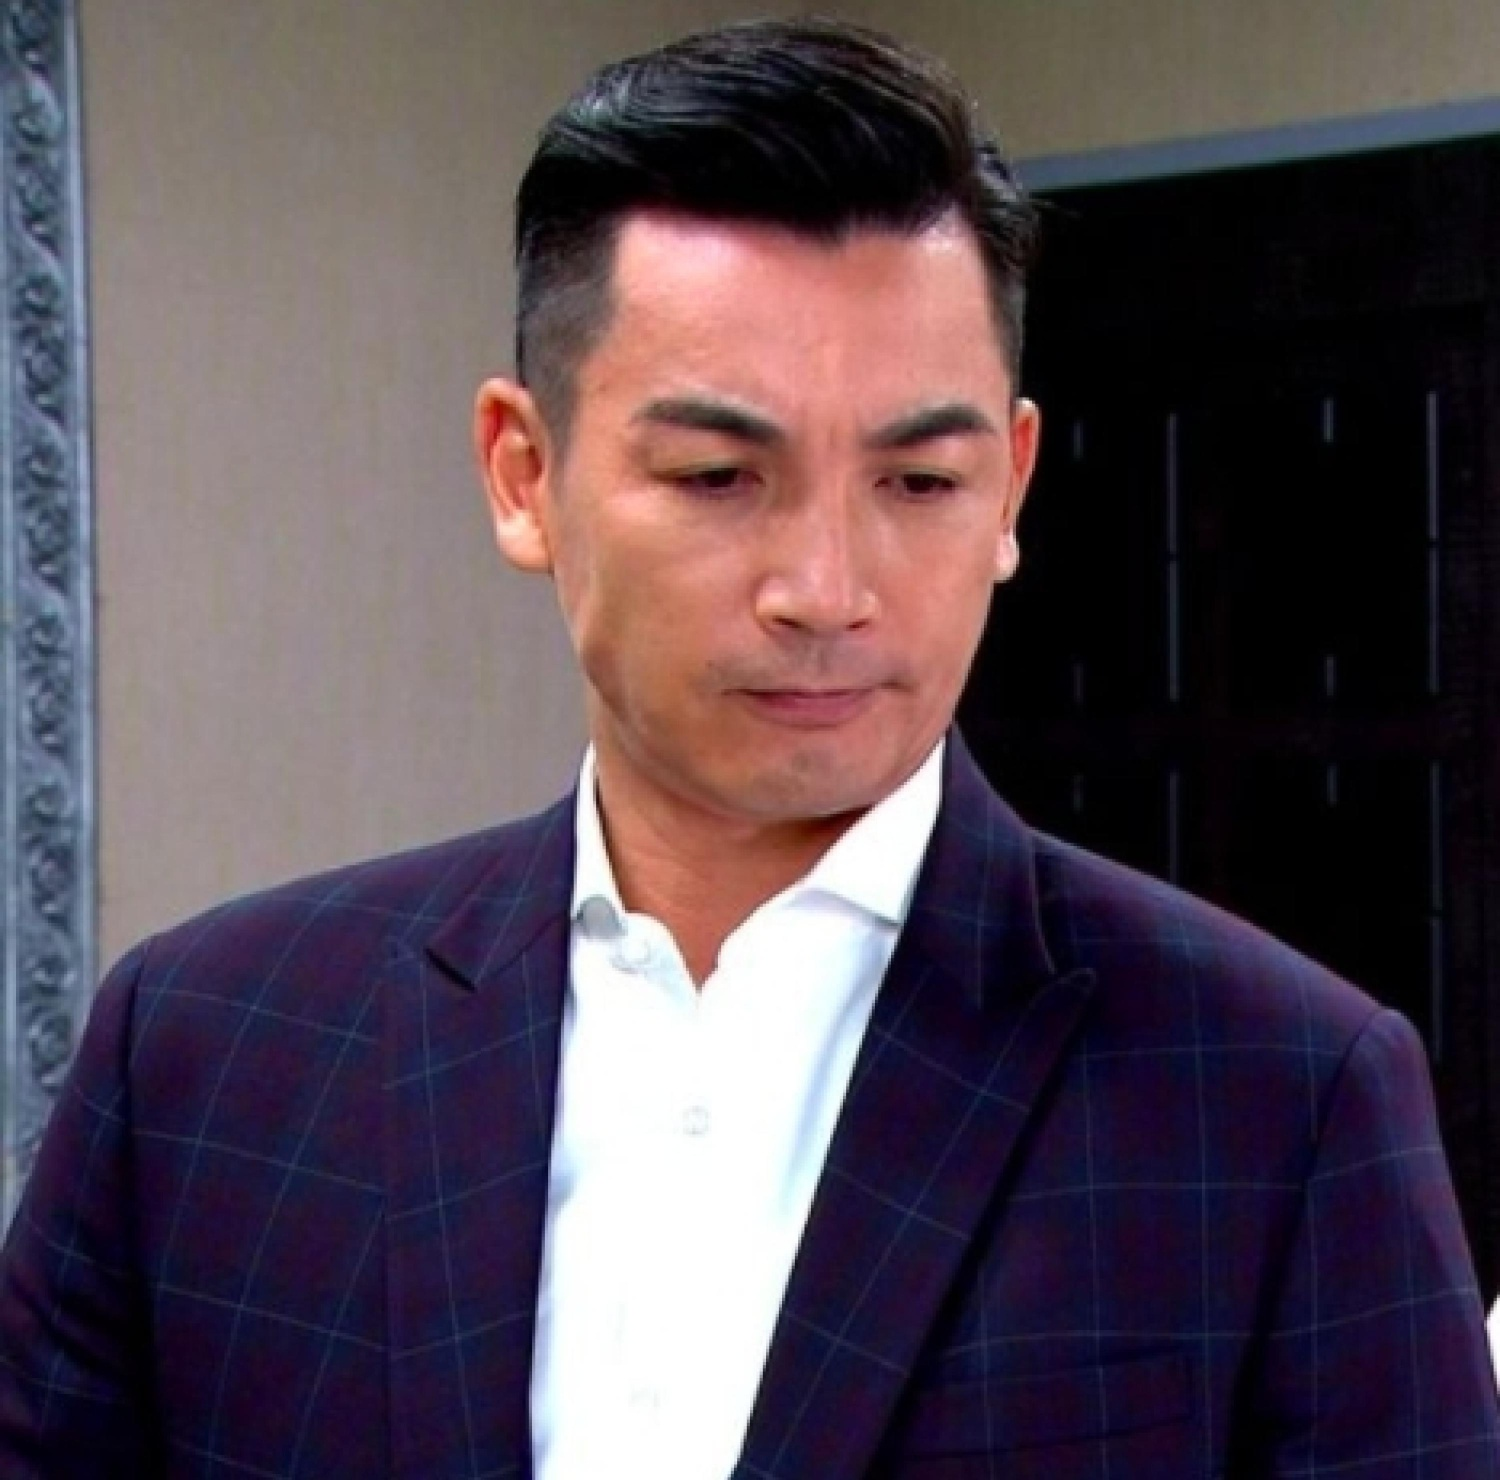male: (423, 14, 1098, 941)
